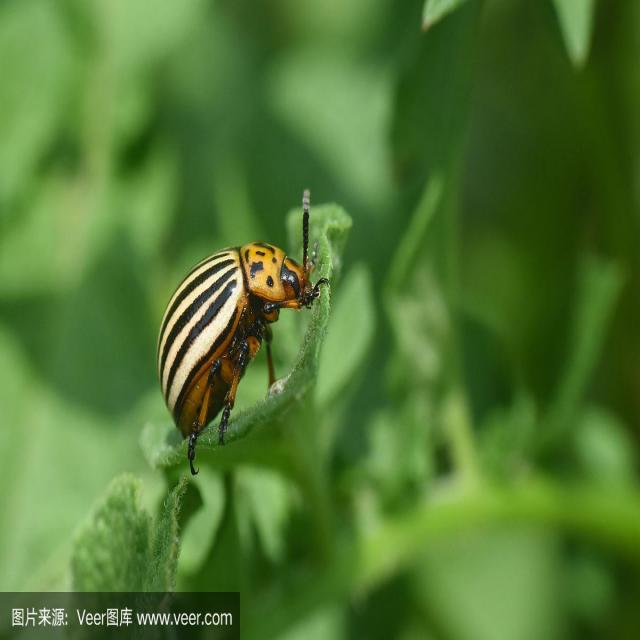ShuCaiHuaBanChong-Grown-: (161, 217, 323, 460)
